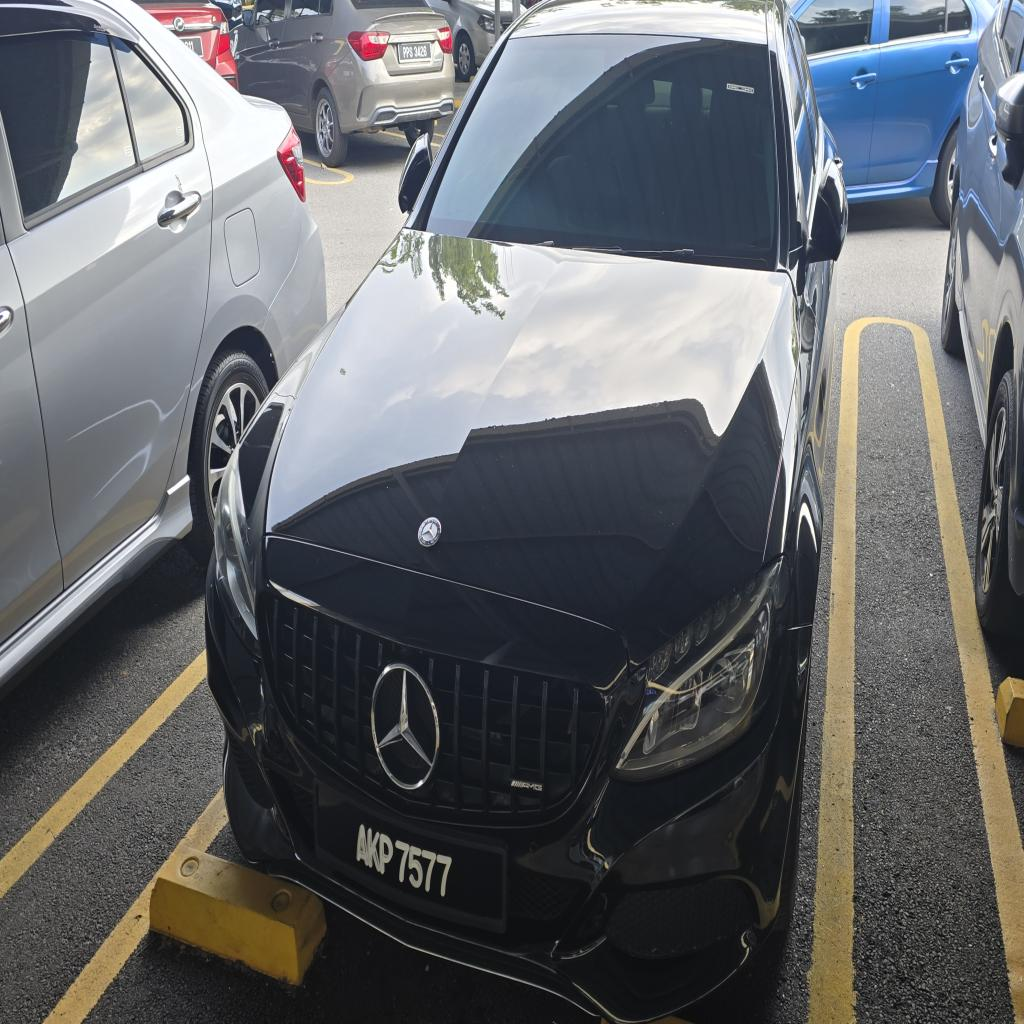car: (206, 0, 847, 1021)
car plate: (317, 787, 506, 930)
